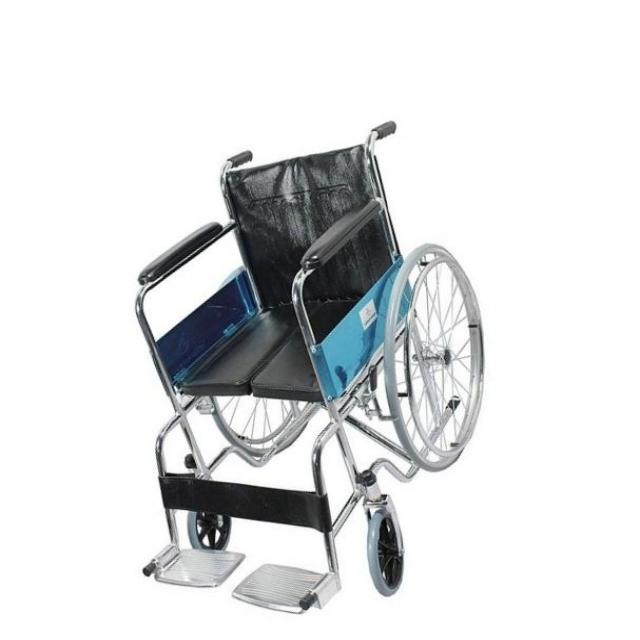wheelchair: (108, 110, 499, 629)
